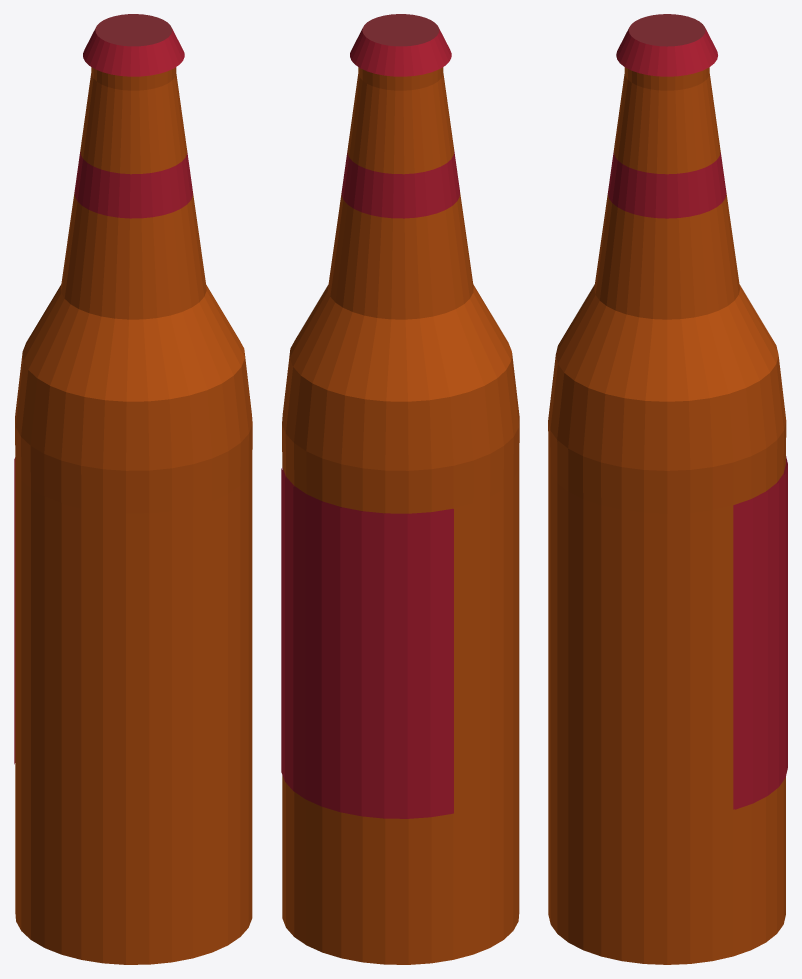
File: bottleV2.fbx
The picture shows the model from 3 angles, left to right: view 1: azimuth 30°, elevation 25°; view 2: azimuth 150°, elevation 25°; view 3: azimuth 270°, elevation 25°; orthographic projection.
Visible parts, largest first — view 1: Bottle, upper sticker, cap, sticker; view 2: Bottle, sticker, upper sticker, cap; view 3: Bottle, sticker, upper sticker, cap.
Part boxes in pixels (x1,y1,x2,y2): Bottle: [15, 67, 252, 964]; upper sticker: [74, 150, 192, 218]; cap: [83, 14, 184, 76]; sticker: [14, 457, 15, 764]; Bottle: [282, 67, 519, 964]; sticker: [281, 468, 453, 818]; upper sticker: [341, 150, 459, 218]; cap: [350, 14, 451, 76]; Bottle: [548, 67, 786, 964]; sticker: [735, 456, 787, 809]; upper sticker: [607, 152, 726, 218]; cap: [616, 14, 717, 76].
Bounding box in the file's own units: 1.23 × 5.03 × 1.24.
